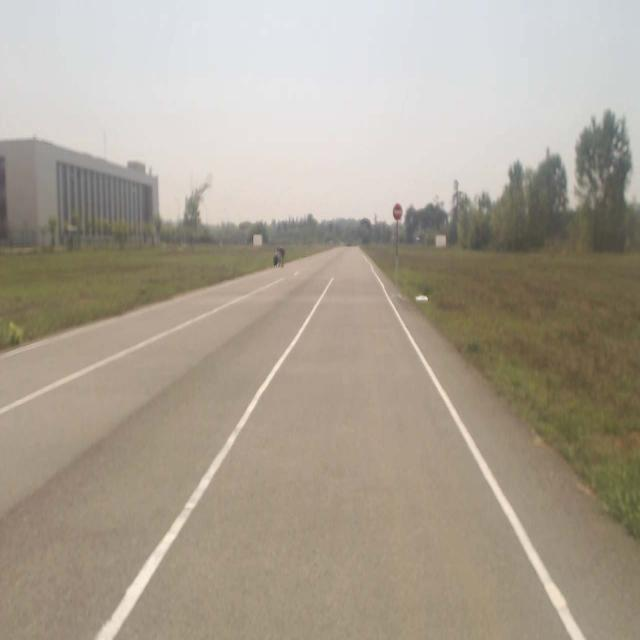girisyok: (393, 203, 403, 220)
